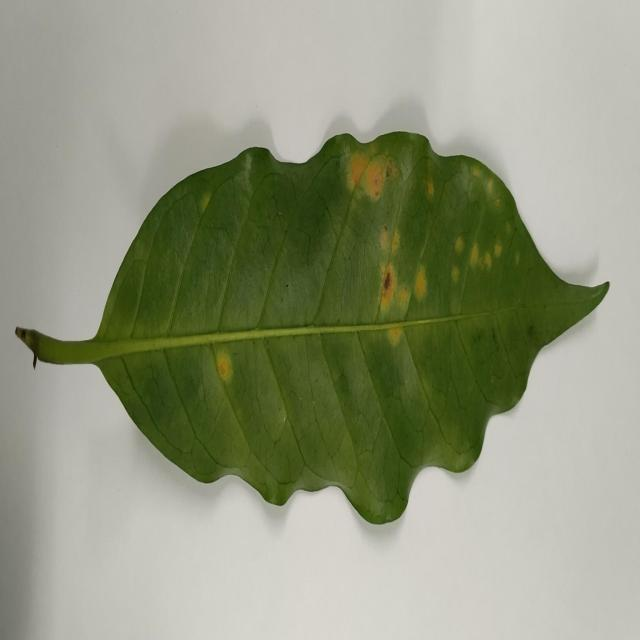rust: (374, 231, 427, 345), (341, 141, 399, 202), (210, 349, 233, 382)
